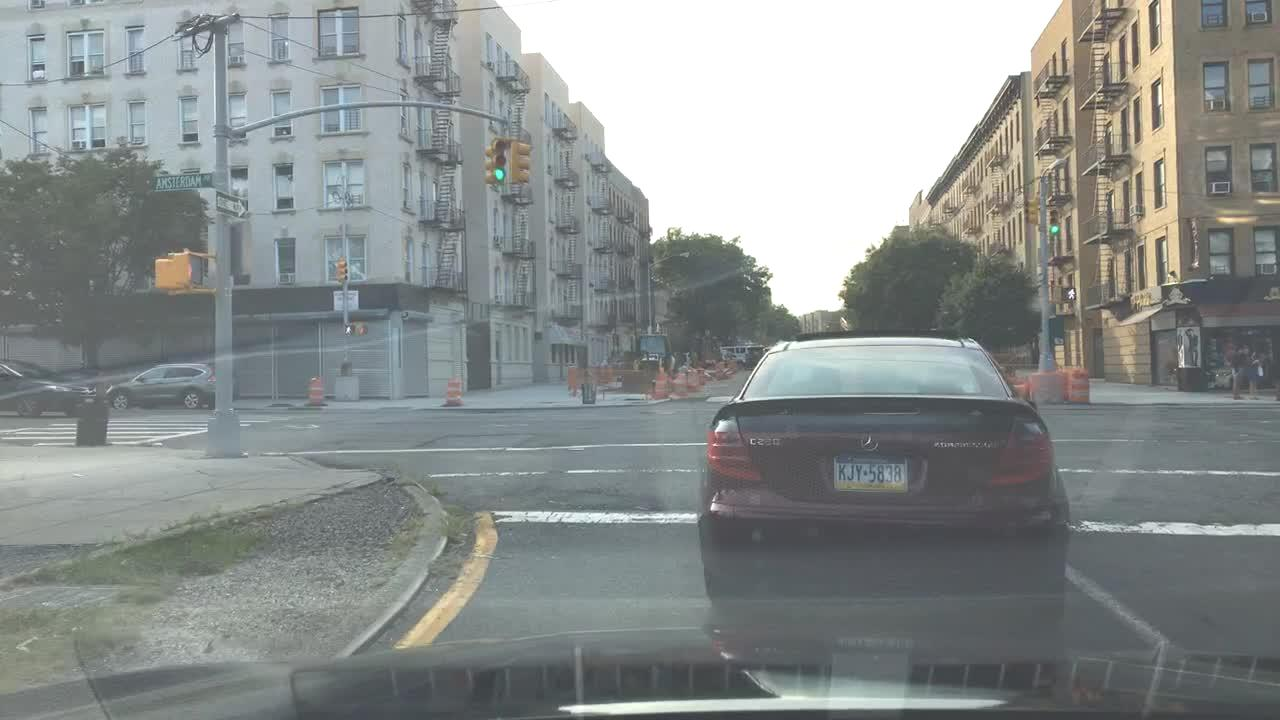Mercedes: (847, 423, 887, 457)
